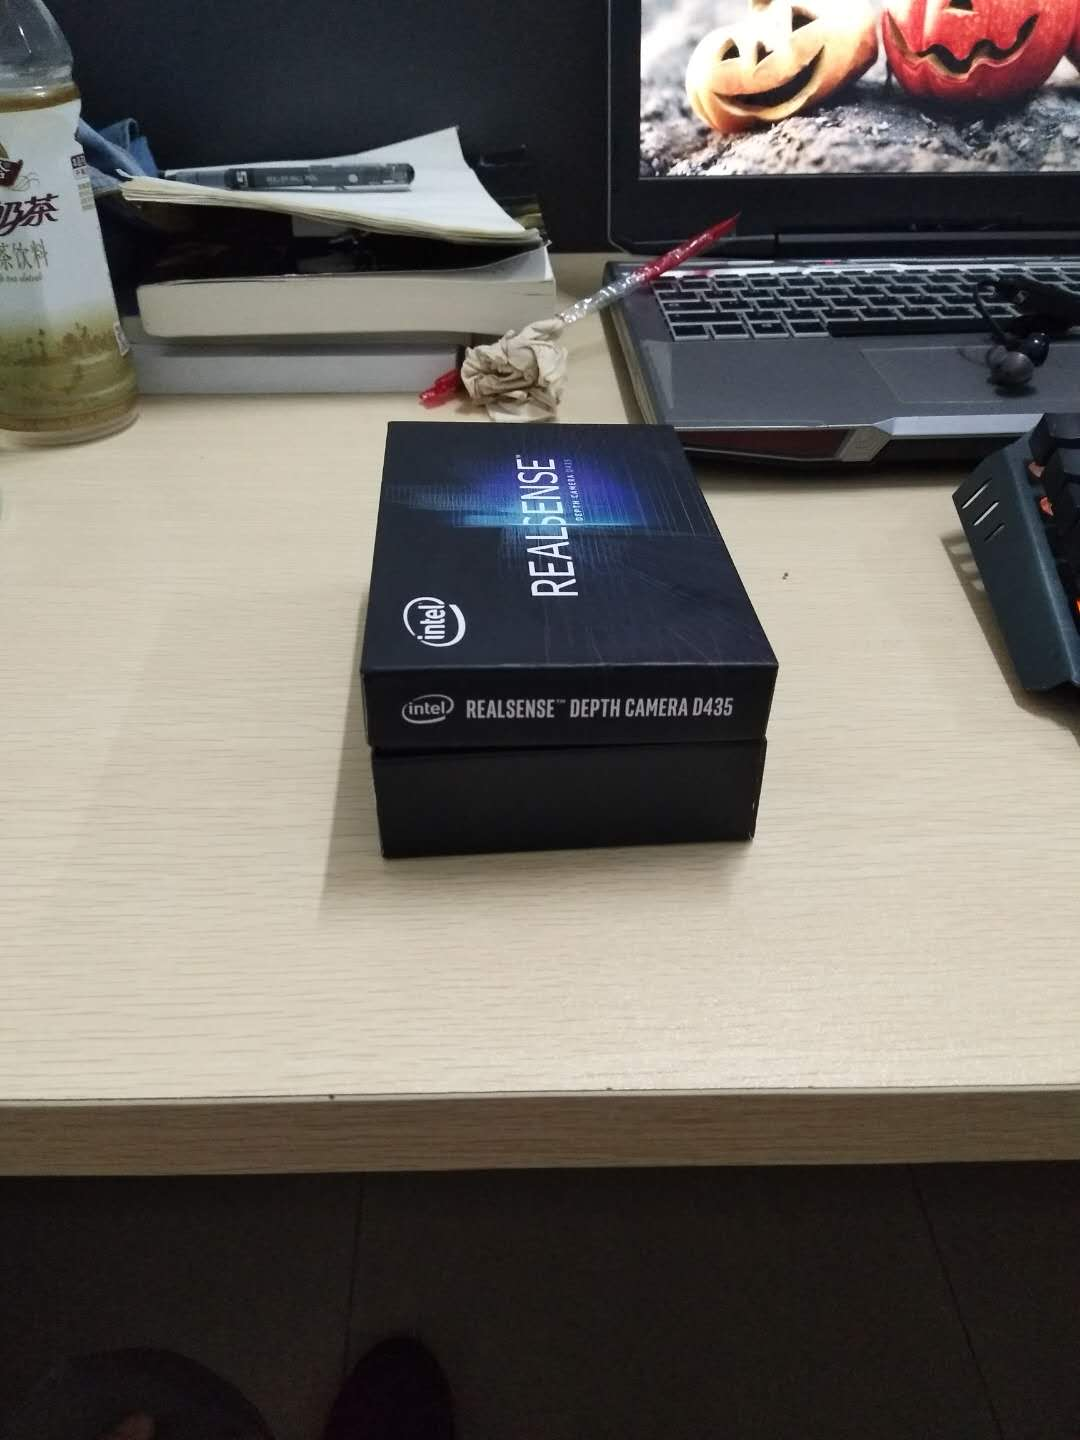box: (346, 426, 786, 873)
